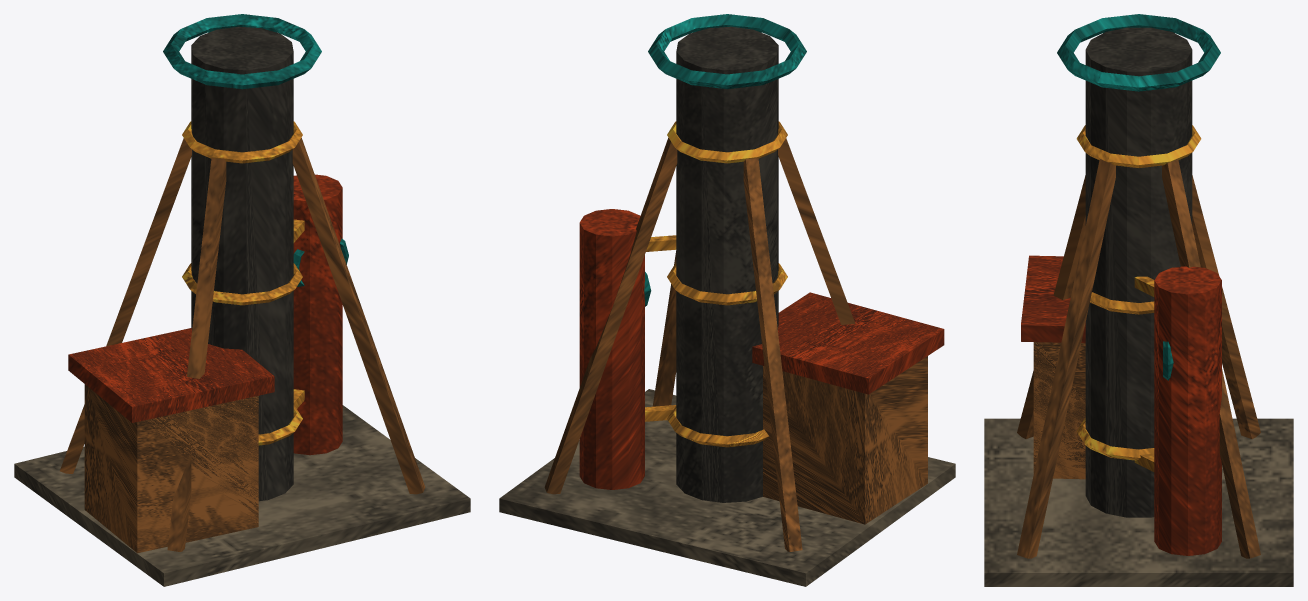
Rendered from derrick-07.glb.
3 renders of one model, left to right at view 1: azimuth 30°, elevation 25°; view 2: azimuth 150°, elevation 25°; view 3: azimuth 270°, elevation 25°, orthographic. The views are drawn at different scales.
Parts seen in each view (by area): view 1: derrick-07; view 2: derrick-07; view 3: derrick-07.
Boxes of the visible parts, x1=… form: derrick-07: x1=14, y1=14, x2=470, y2=586; derrick-07: x1=499, y1=14, x2=955, y2=586; derrick-07: x1=984, y1=14, x2=1293, y2=586.
Size of the model in its own units: 5.37 by 7.3 by 4.4.
Materials: 1 (1 with a texture image).
